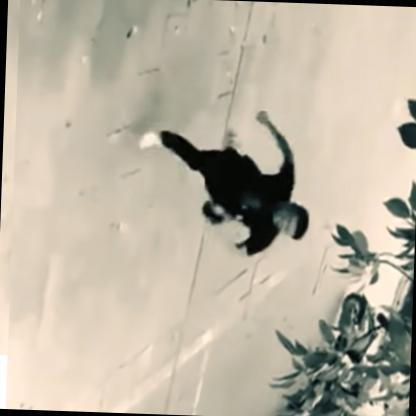Human Body: (128, 98, 318, 266)
